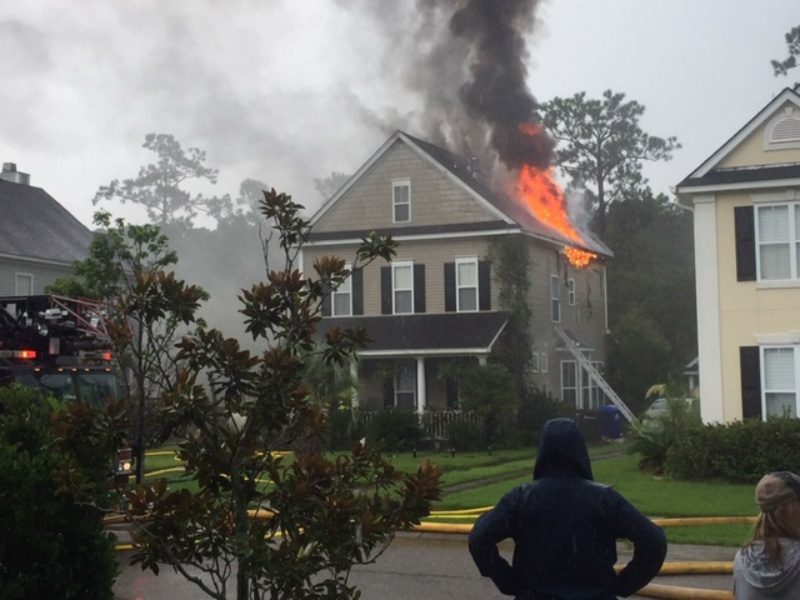fire: (502, 165, 606, 239), (549, 250, 604, 273)
